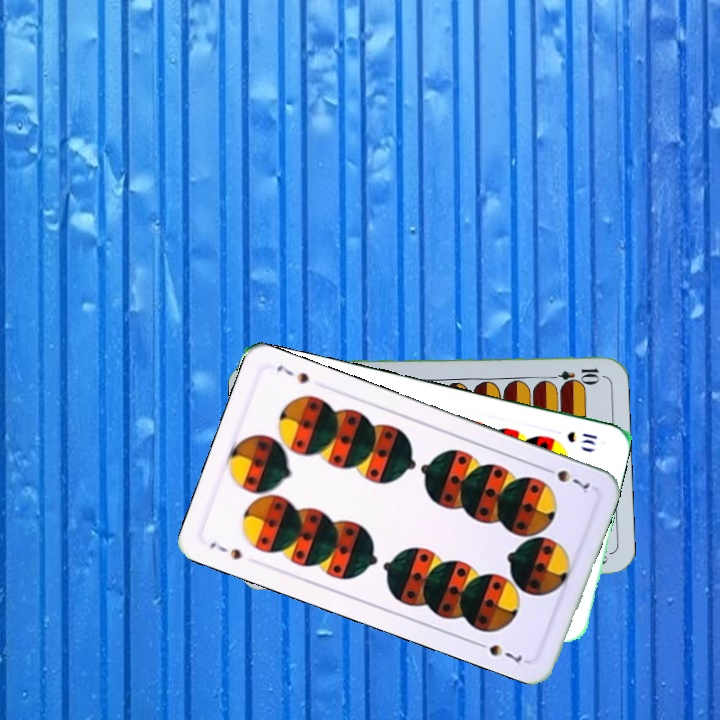E10: (543, 364, 602, 384)
S10: (562, 427, 600, 448)
S7: (539, 463, 593, 496), (205, 538, 244, 563)
